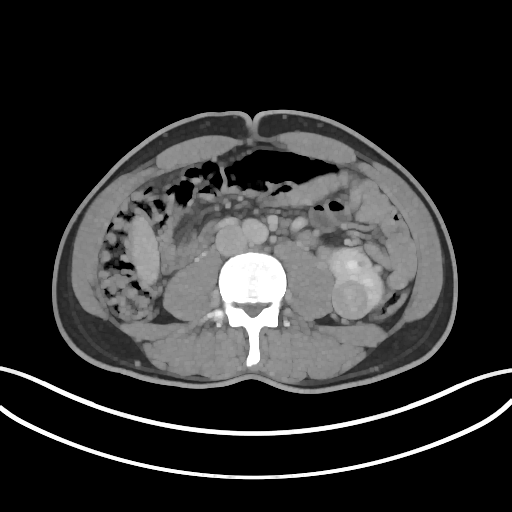Lesion: (331, 280, 370, 321)
